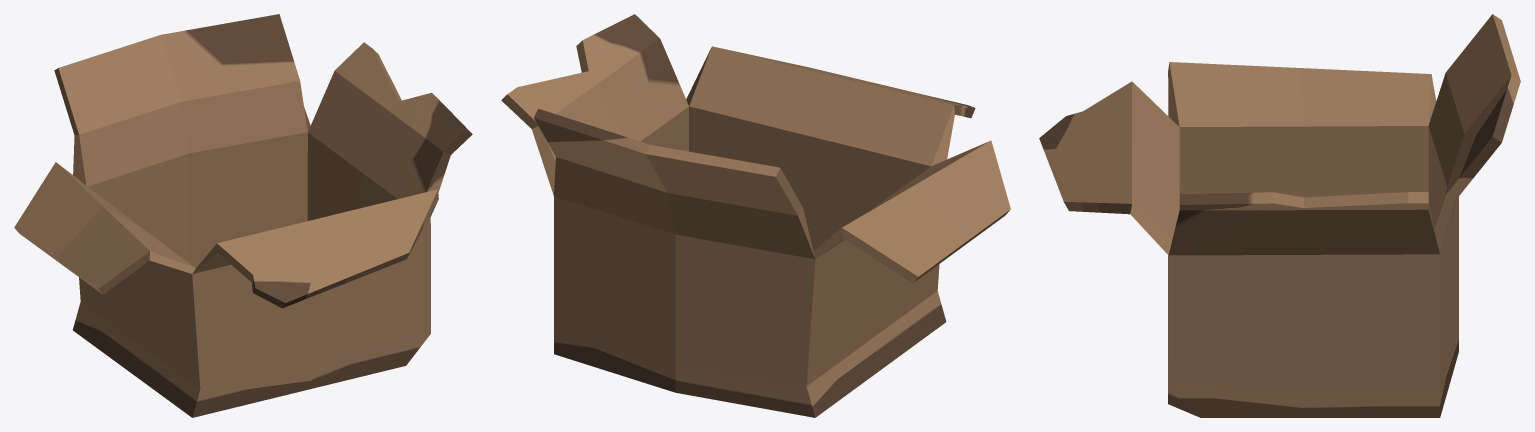
File: SM_Cardboard_Box_B.fbx
3 renders of one model, left to right at view 1: azimuth 30°, elevation 25°; view 2: azimuth 150°, elevation 25°; view 3: azimuth 270°, elevation 25°, orthographic. The views are drawn at different scales.
Visible parts, largest first — view 1: SM_Cardboard_Box_B; view 2: SM_Cardboard_Box_B; view 3: SM_Cardboard_Box_B.
Boxes of the visible parts, bbox=[...] form: SM_Cardboard_Box_B: bbox=[14, 14, 472, 417]; SM_Cardboard_Box_B: bbox=[501, 14, 1010, 417]; SM_Cardboard_Box_B: bbox=[1039, 14, 1520, 417].
Bounding box in the file's own units: 87.26 × 55.04 × 86.9.
